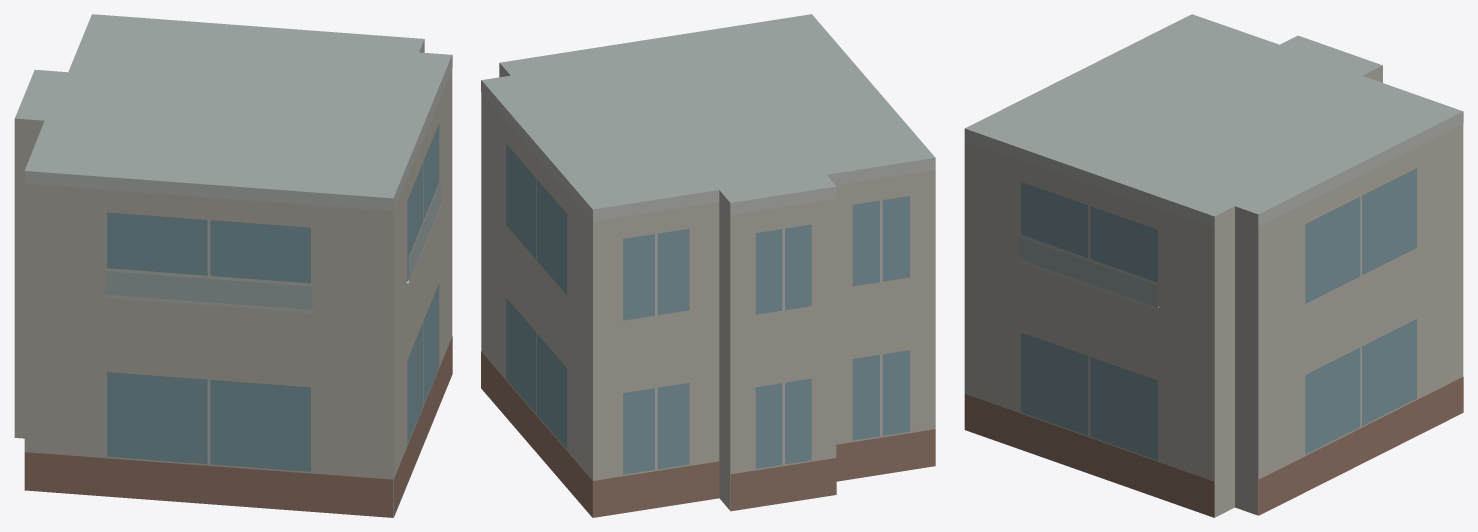
File: survey-upis-32956886.glb
The picture shows the model from 3 angles, left to right: view 1: azimuth 30°, elevation 25°; view 2: azimuth 150°, elevation 25°; view 3: azimuth 270°, elevation 25°; orthographic projection. The views are drawn at different scales.
Parts seen in each view (by area): view 1: survey-upis-32956886.tmp; view 2: survey-upis-32956886.tmp; view 3: survey-upis-32956886.tmp.
Boxes of the visible parts, x1,y1,x2,y2 form: survey-upis-32956886.tmp: (14, 14, 452, 517); survey-upis-32956886.tmp: (481, 14, 935, 517); survey-upis-32956886.tmp: (964, 14, 1463, 517).
Bounding box in the file's own units: 8.8 × 6.1 × 9.16.
